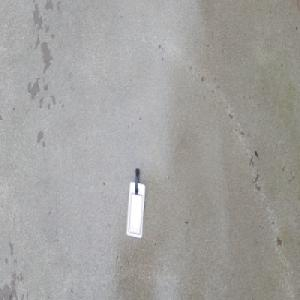LuggageTag: (124, 165, 145, 238)
